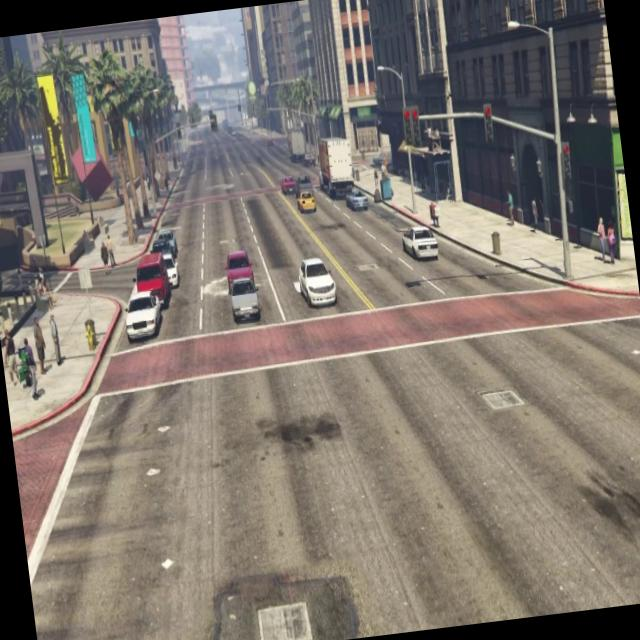Red-Signal: (398, 96, 426, 157), (476, 96, 499, 150), (558, 135, 576, 186)
